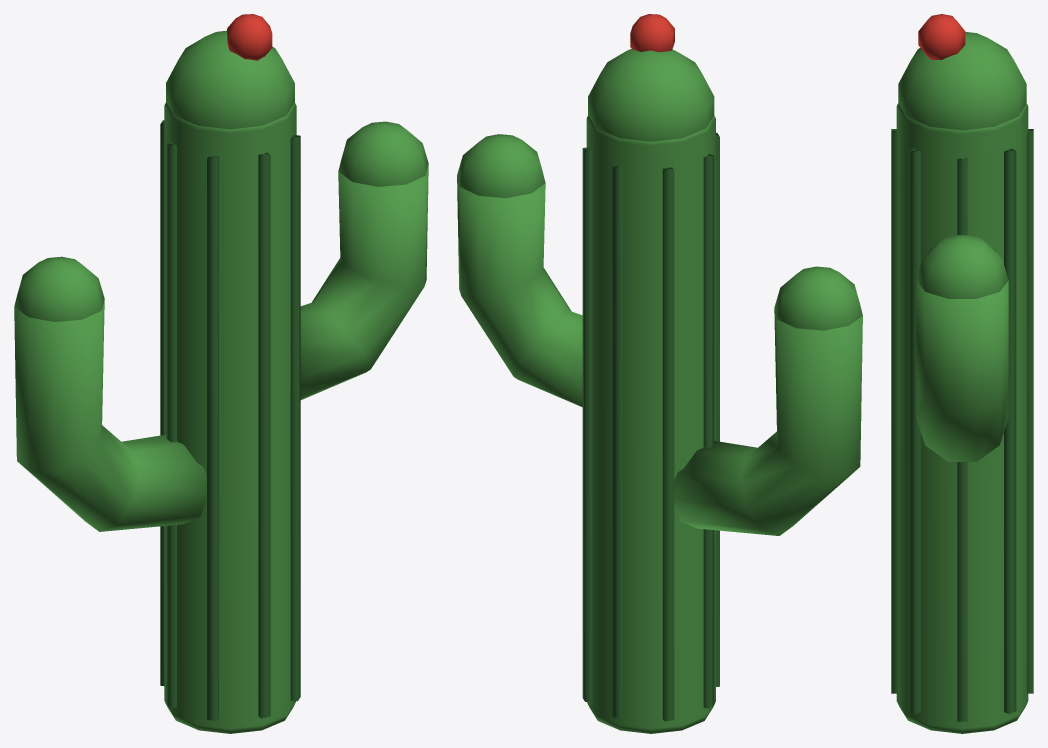
Rendered from gulch_cactus_a.glb.
3 renders of one model, left to right at view 1: azimuth 30°, elevation 25°; view 2: azimuth 150°, elevation 25°; view 3: azimuth 270°, elevation 25°, orthographic. The views are drawn at different scales.
Visible parts, largest first — view 1: Cactus; view 2: Cactus; view 3: Cactus.
Boxes of the visible parts, x1,y1,x2,y2 form: Cactus: (14,14,428,733); Cactus: (457,14,862,733); Cactus: (891,14,1033,733).
Size of the model in its own units: 2.24 by 3.74 by 0.69.
